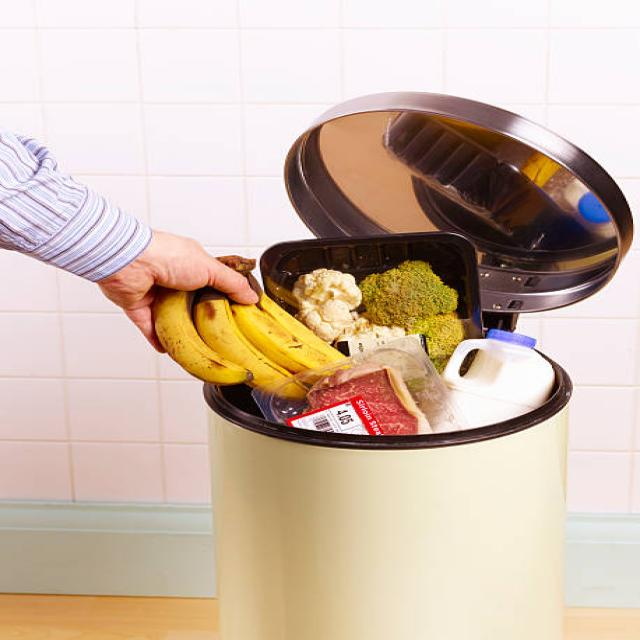trash: (155, 238, 530, 433)
